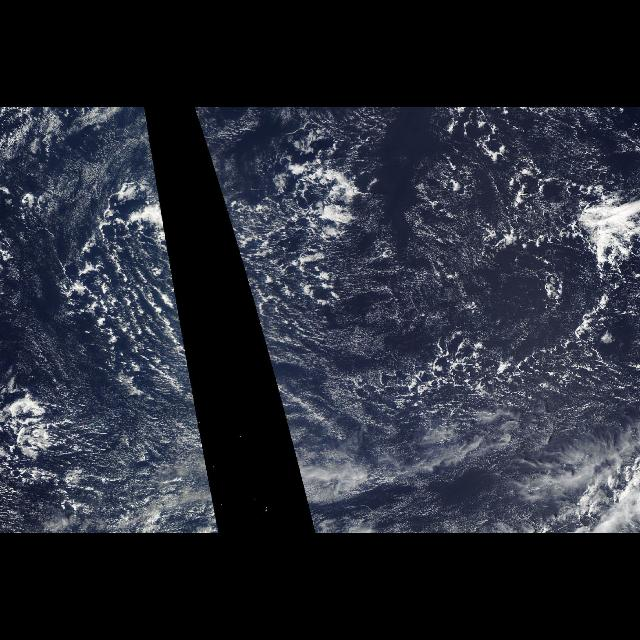Gravel: (326, 327, 620, 448), (90, 220, 188, 394), (440, 108, 580, 228)
Sugar: (344, 107, 564, 355), (56, 357, 210, 533), (8, 110, 148, 188)
